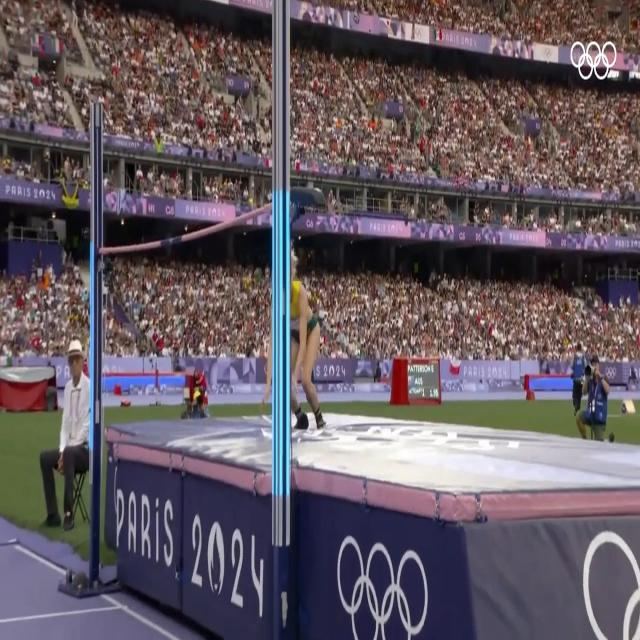land: (262, 255, 326, 432)
